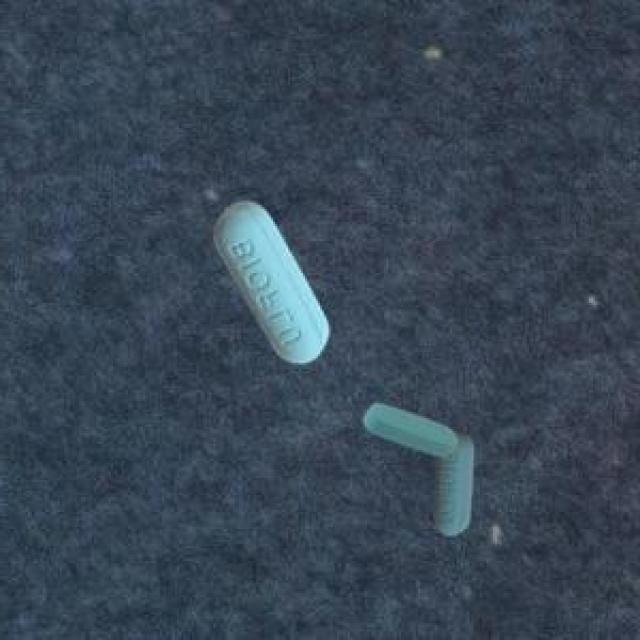Bioflu: (206, 194, 340, 373), (352, 398, 486, 556)
